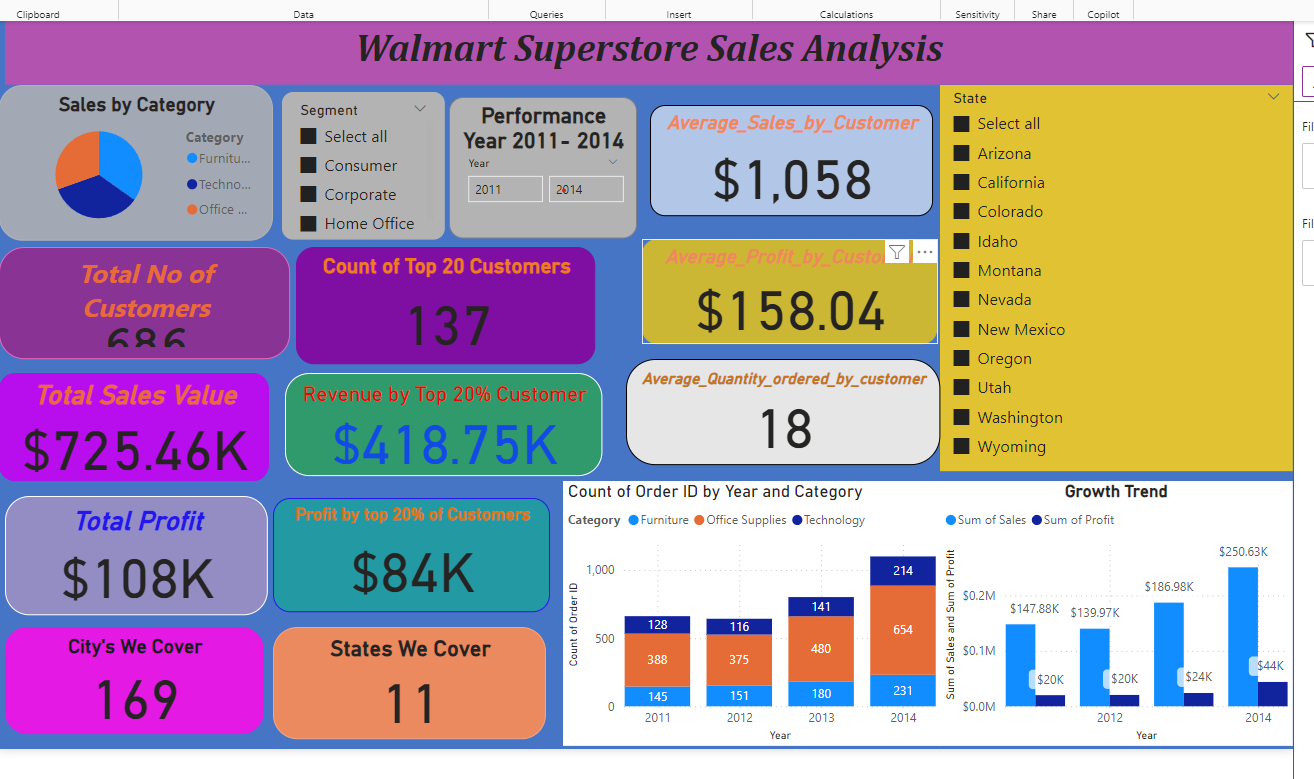

Layout of this report page (visuals, bound fields, positions):
{"tool":"powerbi","page":{"name":"Financial Health","canvas":[1280,720],"ordinal":0},"visuals":[{"type":"textbox","box":[6.2,0,1273.8,63],"z":0},{"type":"card","title":"Total Profit","fields":{"Values":["Sum(Walmart.Profit)"]},"box":[6.2,469.6,260.1,118.1],"z":1000},{"type":"card","title":"Total Sales Value","fields":{"Values":["Sum(Walmart.Sales)"]},"box":[0,348,267.2,107.4],"z":2000},{"type":"card","title":"Average_Profit_by_Customer","fields":{"Values":["Avg(Walmart (2).Profit_by_Customer)"]},"box":[636.4,215.7,292,103.9],"z":3000},{"type":"card","title":"Average_Sales_by_Customer","fields":{"Values":["Avg(Walmart (2).Sales_by_Customer)"]},"box":[643.6,83.4,279.6,110.1],"z":4000},{"type":"slicer","title":"Overall State","fields":{"Values":["Walmart.State"]},"box":[931.2,63,348.8,381.7],"z":5000},{"type":"card","title":"Average_Quantity_ordered_by_customer","fields":{"Values":["Avg(Walmart (2).Quantity_by_Customer)"]},"box":[620.5,334.6,310.7,104.7],"z":6000},{"type":"card","title":"Total No of Customers","fields":{"Values":["Count(Walmart.Customer ID)"]},"box":[0,223.7,287.6,111],"z":7000},{"type":"card","title":"Revenue by Top 20% Customer","fields":{"Values":["Sum(Walmart.Sales)"]},"box":[283.2,348,314.2,102.1],"z":8000},{"type":"card","title":"Profit by top 20% of Customers","fields":{"Values":["Sum(Walmart.Profit)"]},"box":[270.7,472.2,274.3,112.7],"z":9000},{"type":"card","title":"Count of Top 20 Customers","fields":{"Values":["Count(Walmart.Customer ID)"]},"box":[293.8,223.7,296.5,116.3],"z":10000},{"type":"card","title":"City''s We Cover","fields":{"Values":["Count(Walmart.City)"]},"box":[6.2,599.2,255.6,105.6],"z":11000},{"type":"card","title":"States We Cover","fields":{"Values":["Count(Walmart.State)"]},"box":[270.7,599.2,269.8,111],"z":12000},{"type":"lineClusteredColumnComboChart","title":"Growth Trend","fields":{"Category":["Walmart.Order Date.Variation.Date Hierarchy.Year"],"Y":["Sum(Walmart.Sales)","Sum(Walmart.Profit)"]},"box":[931.2,455.4,348.8,261.9],"z":13000},{"type":"slicer","title":"Performance  Year 2011- 2014","fields":{"Values":["Walmart.Order Date.Variation.Date Hierarchy.Year"]},"box":[445.6,75.5,185.5,140.2],"z":14000},{"type":"columnChart","fields":{"Category":["Walmart.Order Date.Variation.Date Hierarchy.Year"],"Y":["CountNonNull(Walmart.Order ID)"],"Series":["Walmart.Category"]},"box":[557.4,455.4,373.7,261.9],"z":15000},{"type":"pieChart","title":"Sales by Category","fields":{"Category":["Walmart.Category"],"Y":["Sum(Walmart.Sales)"]},"box":[0,63,270.7,153.6],"z":16000},{"type":"slicer","fields":{"Values":["Walmart.Segment"]},"box":[279.6,70.1,160.7,145.6],"z":17000}]}

Visuals, with their boxes in screenshot pixels (x1, y1, x2, y2):
textbox: (0, 17, 1289, 81)
"Total Profit" card: (0, 493, 263, 612)
"Total Sales Value" card: (0, 369, 264, 478)
"Average_Profit_by_Customer" card: (637, 235, 933, 341)
"Average_Sales_by_Customer" card: (645, 102, 928, 213)
"Overall State" slicer: (936, 81, 1289, 467)
"Average_Quantity_ordered_by_customer" card: (621, 356, 936, 462)
"Total No of Customers" card: (0, 244, 284, 356)
"Revenue by Top 20% Customer" card: (280, 369, 598, 473)
"Profit by top 20% of Customers" card: (267, 495, 545, 609)
"Count of Top 20 Customers" card: (291, 244, 591, 361)
"City''s We Cover" card: (0, 624, 258, 731)
"States We Cover" card: (267, 624, 540, 736)
"Growth Trend" lineClusteredColumnComboChart: (936, 478, 1289, 743)
"Performance  Year 2011- 2014" slicer: (444, 94, 632, 235)
columnChart - Walmart.Order Date.Variation.Date Hierarchy.Year x CountNonNull(Walmart.Order ID): (557, 478, 936, 743)
"Sales by Category" pieChart: (0, 81, 267, 236)
slicer - Walmart.Segment: (276, 88, 439, 235)
